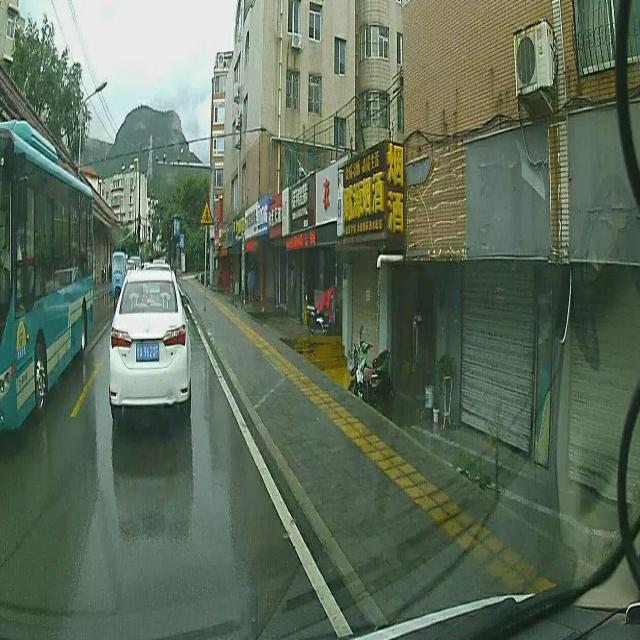car: (108, 268, 192, 413)
